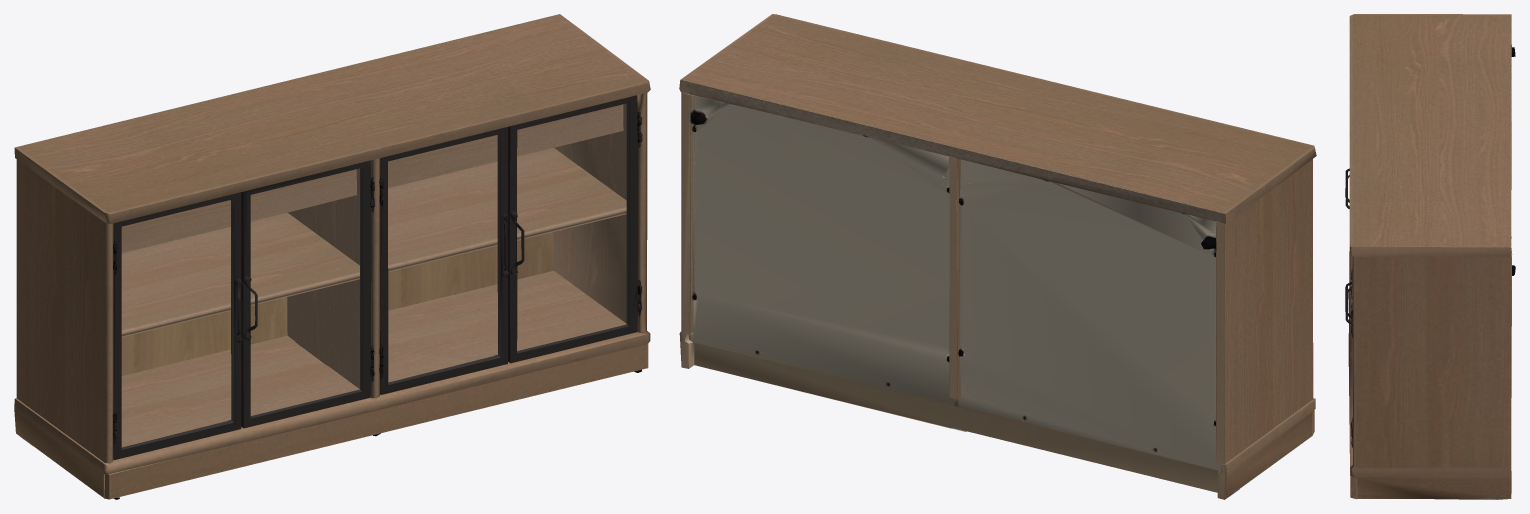
The model's file is 25 - LANESUND Sideboard - grey-brown 161x47x81 cm.glb.
3 views of the same model, side by side, from view 1: azimuth 30°, elevation 25°; view 2: azimuth 150°, elevation 25°; view 3: azimuth 270°, elevation 25° (orthographic). The views are drawn at different scales.
Parts seen in each view (by area): view 1: ASY_ART_90466546_S01_NV01, ASY_LPT05_90466546_S01_NV01, ASY_LPT07_90466546_S01_NV01, ASY_LPT08_90466546_S01_NV01, ASY_LPT11_90466546_S01_NV01, ASY_LPT06_90466546_S01_NV01, ASY_LPT04_90466546_S01_NV01, ASY_LPT02_90466546_S01_NV01, ASY_LPT01_90466546_S01_NV01, ASY_LPT03_90466546_S01_NV01, ASY_LPT10_90466546_S01_NV01, ASY_LPT09_90466546_S01_NV01; view 2: ASY_ART_90466546_S01_NV01, ASY_LPT05_90466546_S01_NV01, ASY_LPT06_90466546_S01_NV01; view 3: ASY_ART_90466546_S01_NV01.
Part boxes in pixels (x1=…): ASY_ART_90466546_S01_NV01: x1=14, y1=14, x2=650, y2=499; ASY_LPT05_90466546_S01_NV01: x1=16, y1=159, x2=113, y2=463; ASY_LPT07_90466546_S01_NV01: x1=121, y1=212, x2=359, y2=337; ASY_LPT08_90466546_S01_NV01: x1=388, y1=148, x2=626, y2=271; ASY_LPT11_90466546_S01_NV01: x1=104, y1=344, x2=648, y2=499; ASY_LPT06_90466546_S01_NV01: x1=287, y1=158, x2=380, y2=398; ASY_LPT04_90466546_S01_NV01: x1=508, y1=95, x2=641, y2=363; ASY_LPT02_90466546_S01_NV01: x1=241, y1=160, x2=373, y2=428; ASY_LPT01_90466546_S01_NV01: x1=113, y1=192, x2=242, y2=459; ASY_LPT03_90466546_S01_NV01: x1=380, y1=127, x2=509, y2=394; ASY_LPT10_90466546_S01_NV01: x1=388, y1=104, x2=623, y2=188; ASY_LPT09_90466546_S01_NV01: x1=121, y1=169, x2=356, y2=253; ASY_ART_90466546_S01_NV01: x1=679, y1=14, x2=1316, y2=499; ASY_LPT05_90466546_S01_NV01: x1=1216, y1=159, x2=1313, y2=464; ASY_LPT06_90466546_S01_NV01: x1=949, y1=156, x2=960, y2=399; ASY_ART_90466546_S01_NV01: x1=1348, y1=14, x2=1515, y2=499.
Bounding box in the file's own units: 1.61 × 0.8163 × 0.4964.
Materials: 18 (18 with a texture image).
